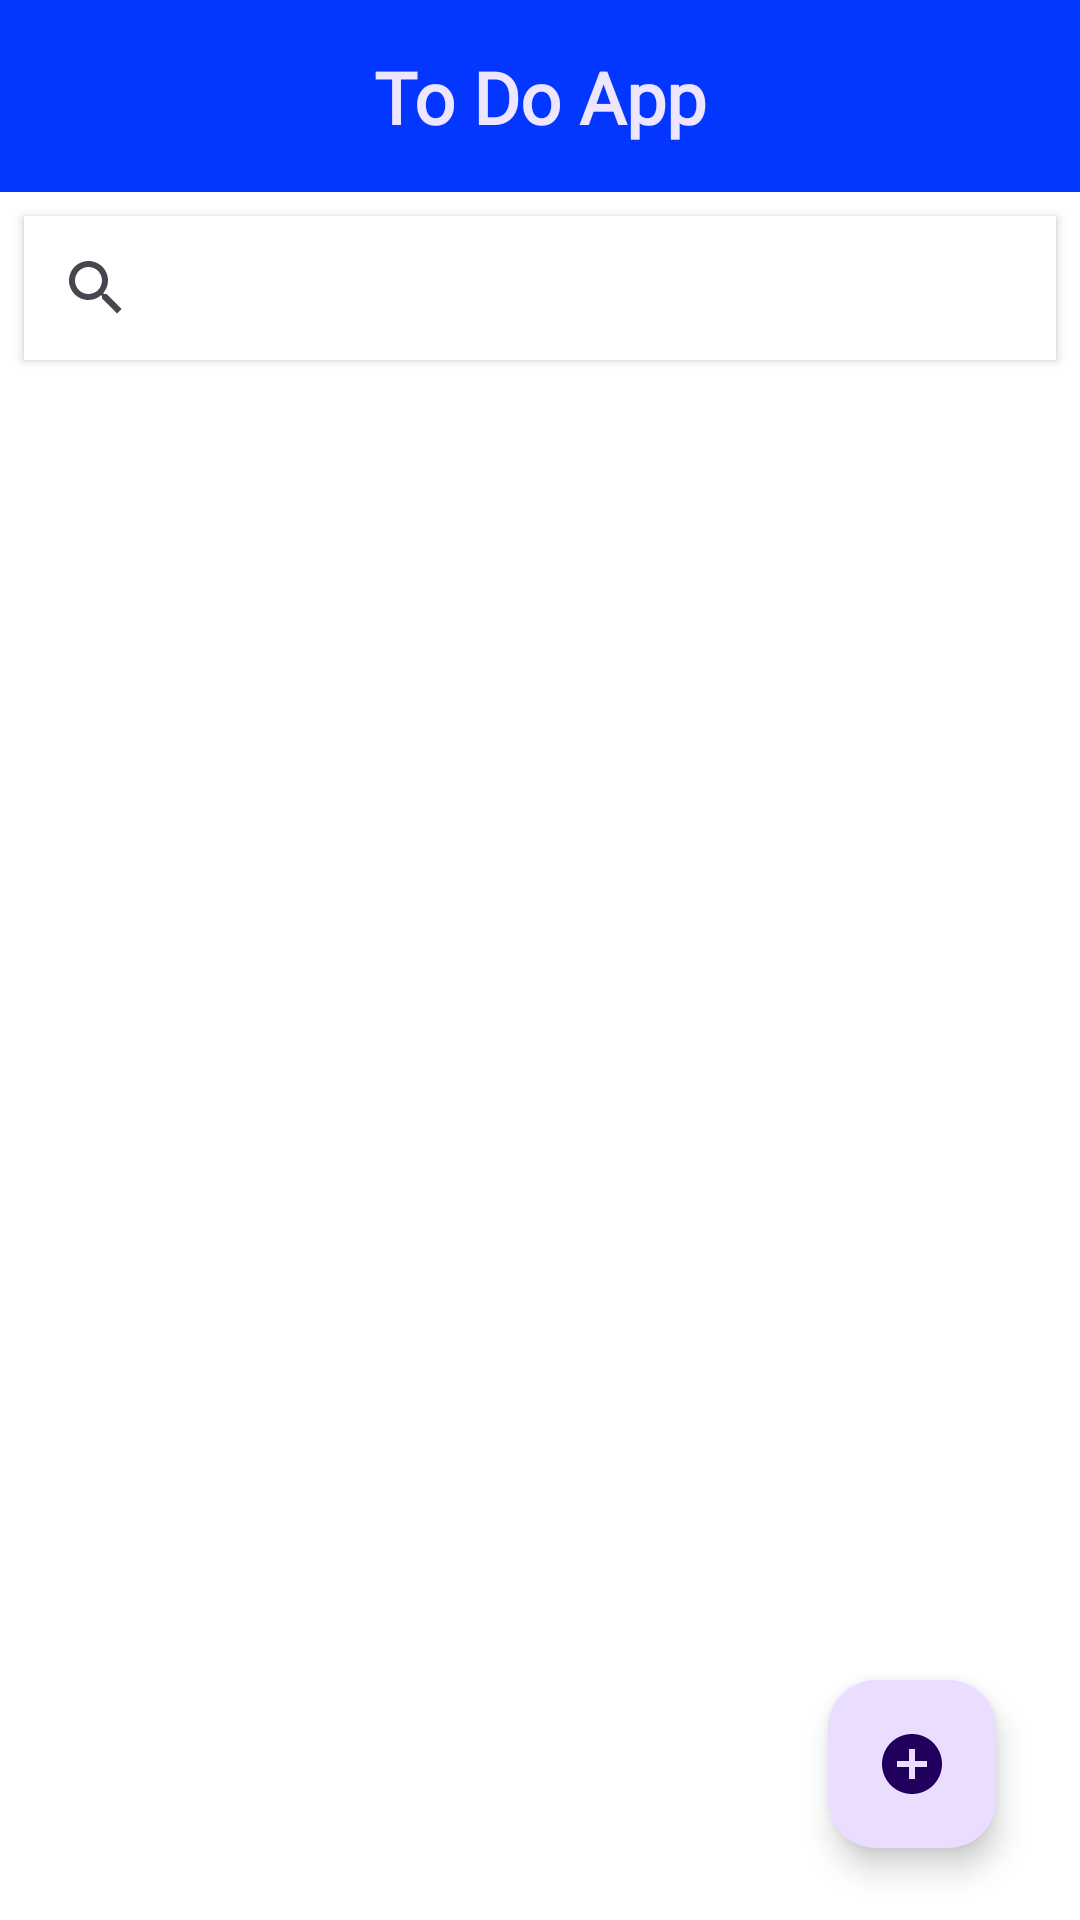

Where icons sit on this 1080 × 1920 app screen, as (x1, y1, x2, y2):
add note: (828, 1680, 996, 1848)
